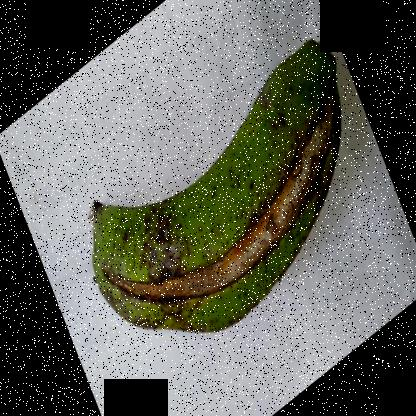rotten: (94, 76, 343, 317)
